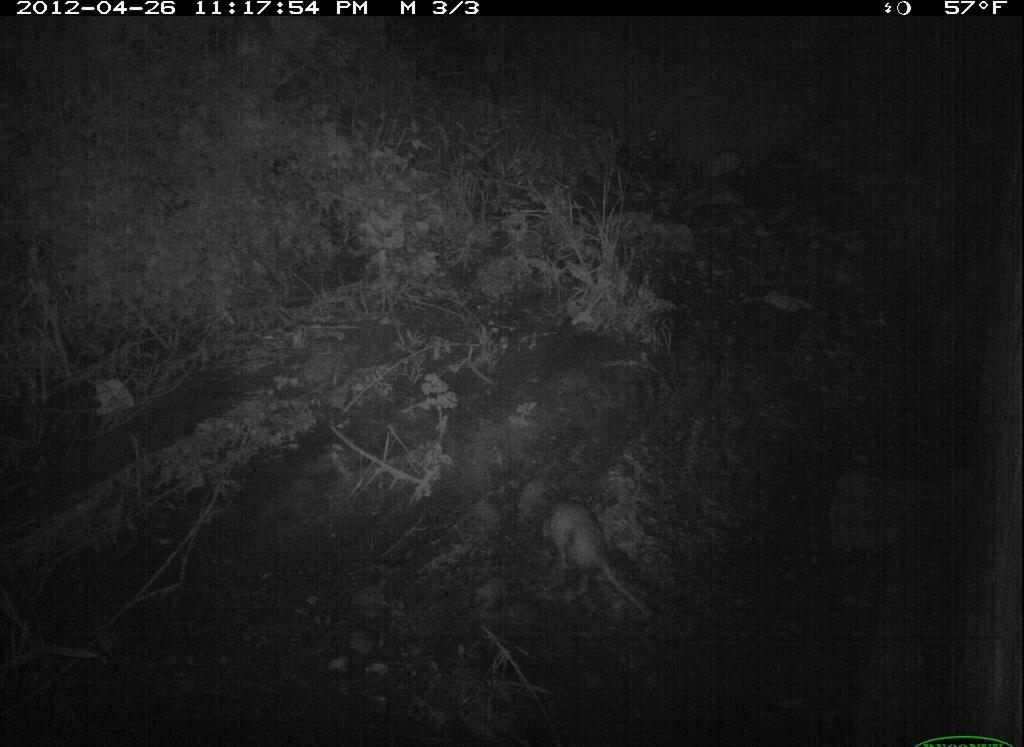opossum: (543, 487, 660, 633)
